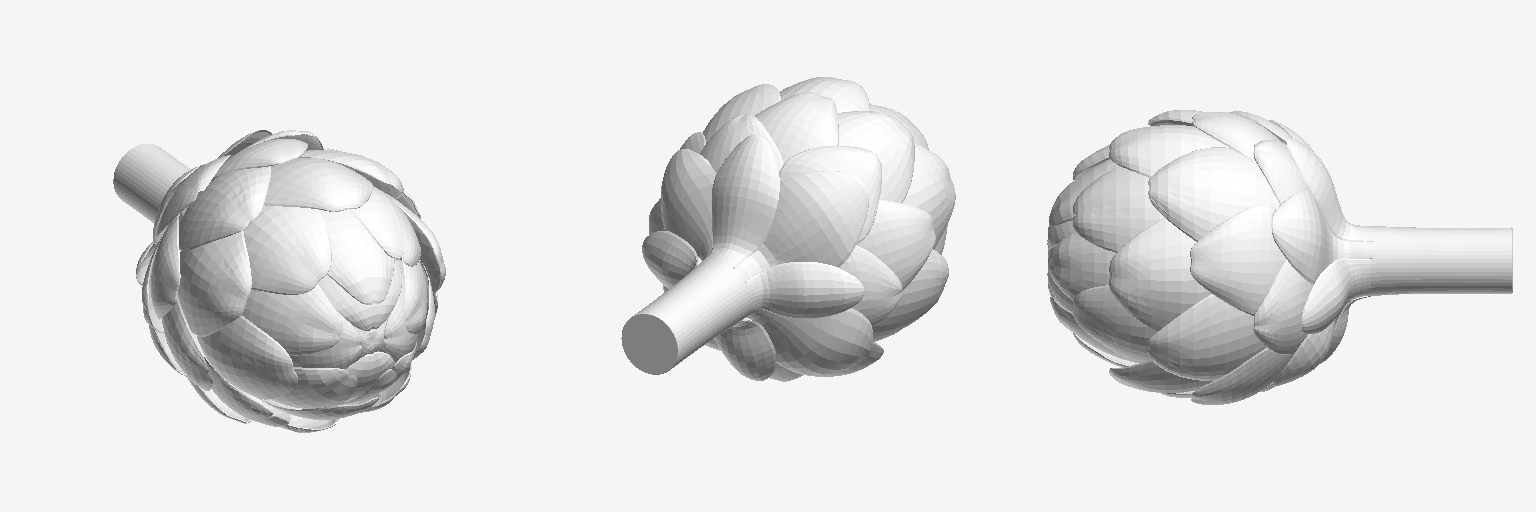
The model's file is 12207_Vegetable_v1_L3.obj.
3 views of the same model, side by side, from view 1: azimuth 30°, elevation 25°; view 2: azimuth 150°, elevation 25°; view 3: azimuth 270°, elevation 25° (orthographic).
Visible parts, largest first — view 1: Vegetable; view 2: Vegetable; view 3: Vegetable.
Part boxes in pixels (x1,y1,x2,y2): Vegetable: (113,130,445,432); Vegetable: (621,77,955,381); Vegetable: (1047,110,1512,404).
Bounding box in the file's own units: 7.02 × 7.07 × 11.08.